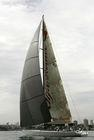fanchuan: (18, 12, 94, 136)
